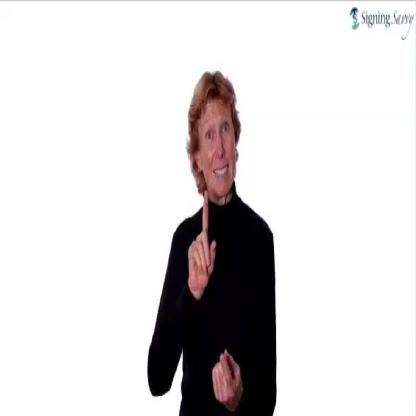NiceToMeetYou: (179, 193, 252, 416)
